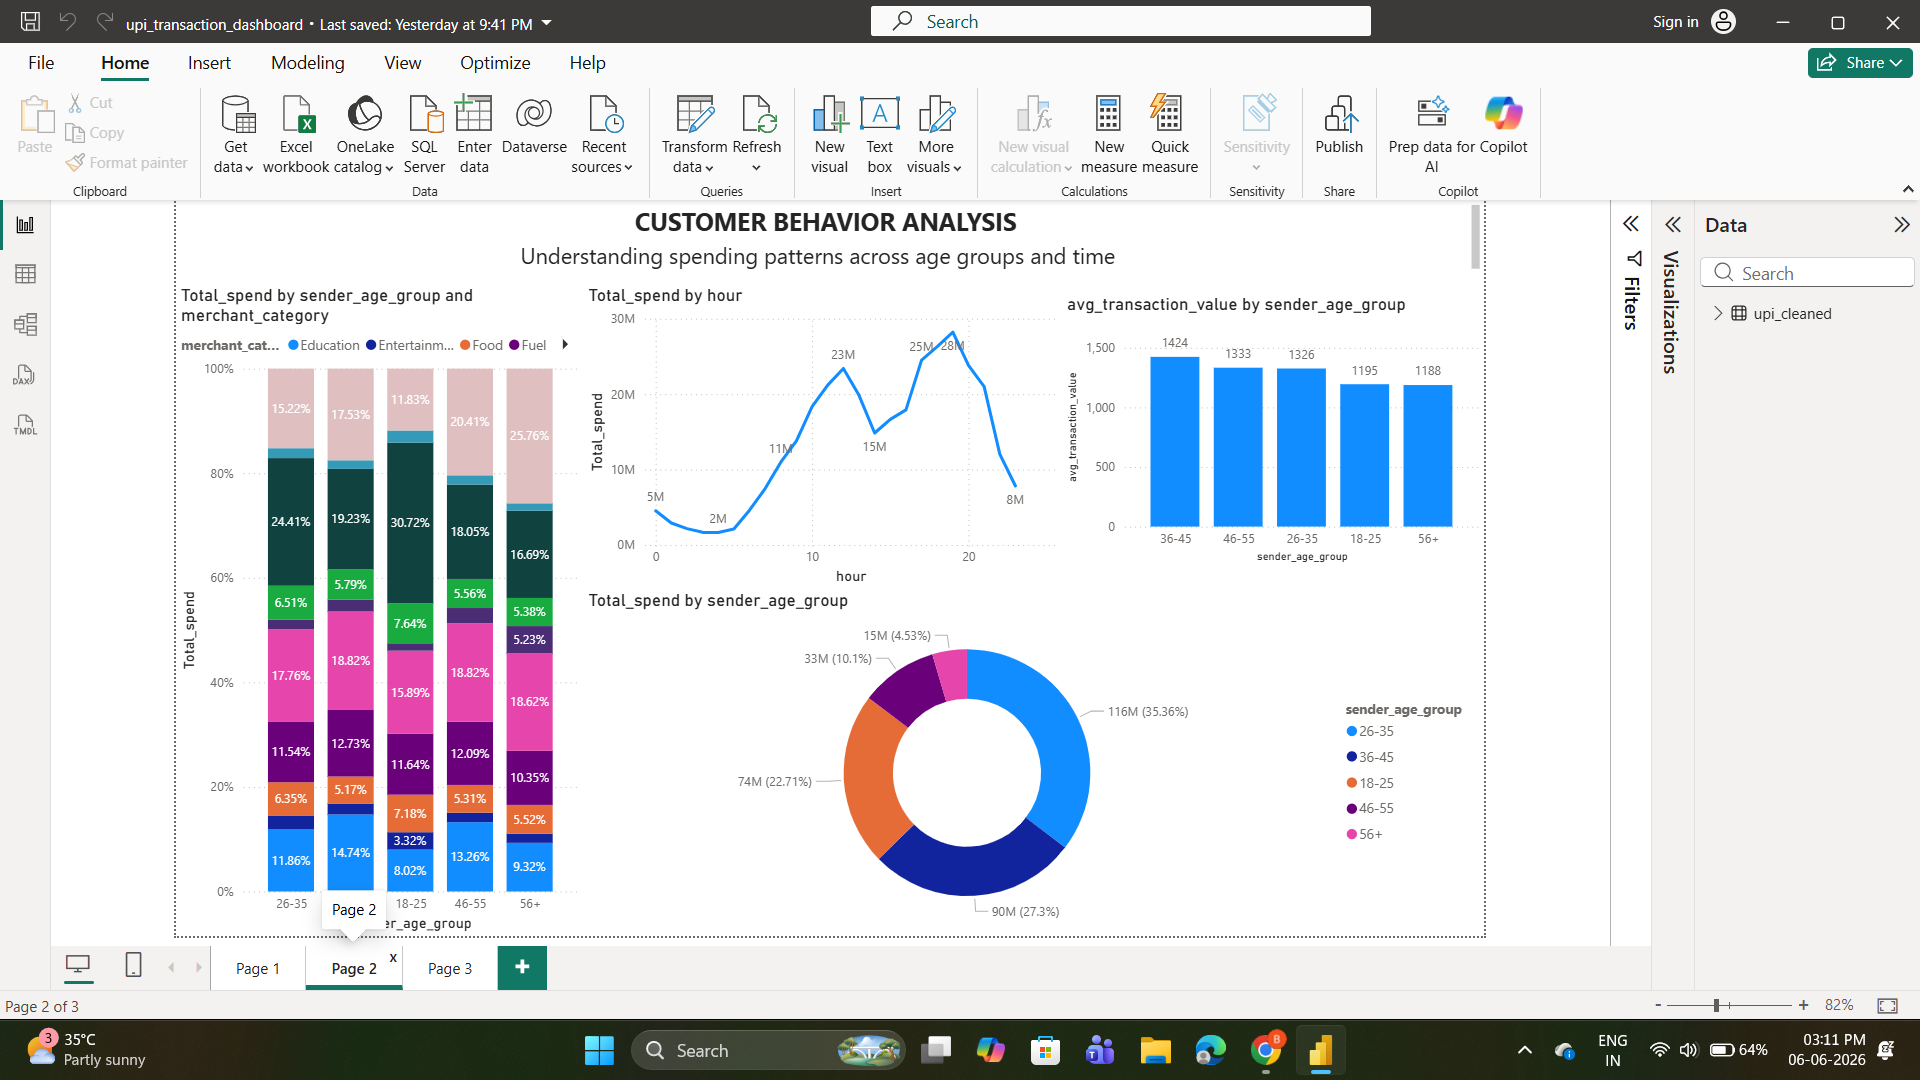

The dashboard page shown, as its layout file describes it:
{"tool":"powerbi","page":{"name":"Page 2","canvas":[1280,720],"ordinal":1},"visuals":[{"type":"textbox","box":[9.8,0,1270.5,73.4],"z":0},{"type":"hundredPercentStackedColumnChart","fields":{"Category":["upi_cleaned.sender_age_group"],"Y":["upi_cleaned.Total_spend"],"Series":["upi_cleaned.merchant_category"]},"box":[0,83.2,398.6,637.1],"z":1},{"type":"lineChart","fields":{"Category":["upi_cleaned.hour"],"Y":["upi_cleaned.Total_spend"]},"box":[398.6,83.2,468.3,298.4],"z":2},{"type":"donutChart","fields":{"Category":["upi_cleaned.sender_age_group"],"Y":["upi_cleaned.Total_spend"]},"box":[398.6,381.5,881.7,338.7],"z":3},{"type":"clusteredColumnChart","fields":{"Category":["upi_cleaned.sender_age_group"],"Y":["upi_cleaned.avg_transaction_value"]},"box":[867,91.7,413.3,267.8],"z":4}]}

Visuals, with their boxes on the page's 1280x720 design canvas (x1, y1, x2, y2). These are canvas units, not pixel positions in the 1920x1080 screenshot, which may show the page scaled, cropped or inside an application window:
textbox: Rect(10, 0, 1280, 73)
hundredPercentStackedColumnChart - upi_cleaned.sender_age_group x upi_cleaned.Total_spend: Rect(0, 83, 399, 720)
lineChart - upi_cleaned.hour x upi_cleaned.Total_spend: Rect(399, 83, 867, 382)
donutChart - upi_cleaned.sender_age_group x upi_cleaned.Total_spend: Rect(399, 382, 1280, 720)
clusteredColumnChart - upi_cleaned.sender_age_group x upi_cleaned.avg_transaction_value: Rect(867, 92, 1280, 360)
